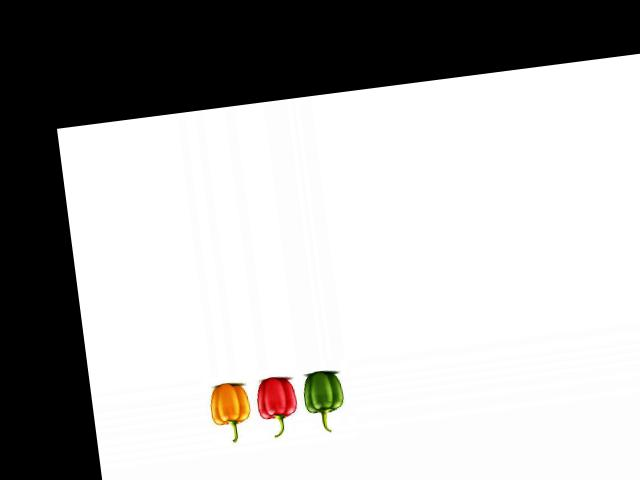bell_pepper: (301, 365, 351, 434)
